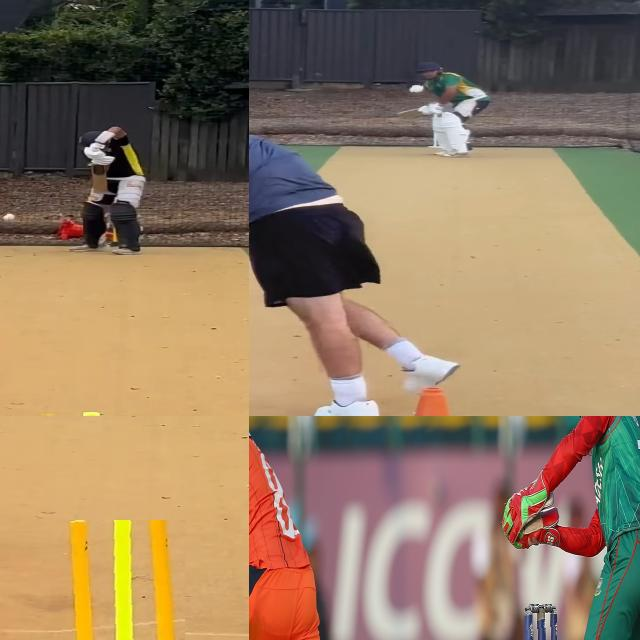Cricket ball: (408, 84, 430, 95), (2, 212, 17, 222)
Stumps: (49, 520, 185, 640)
